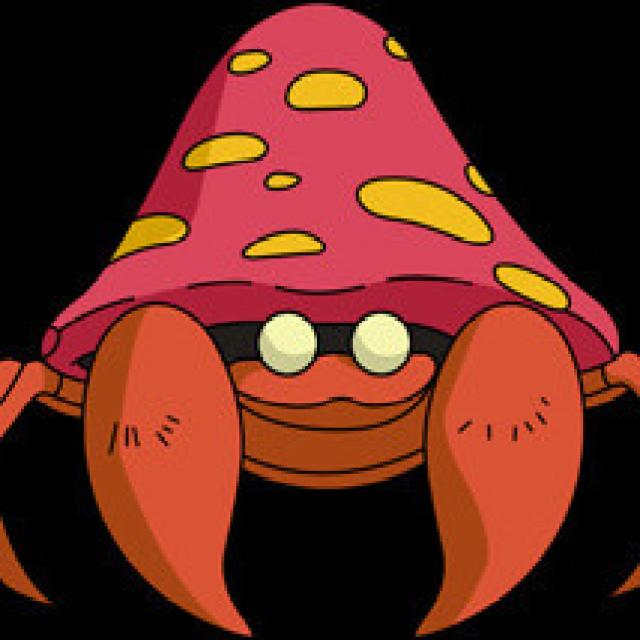Parasect: (83, 16, 591, 624)
